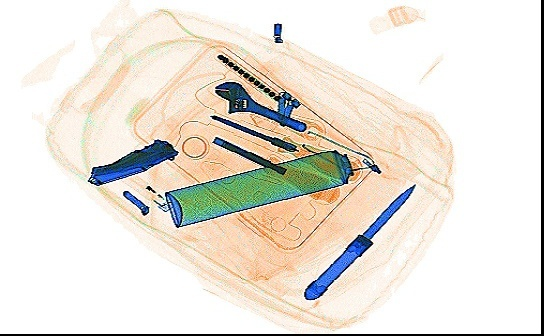knife: (300, 181, 418, 301)
lighter: (120, 167, 175, 210)
pressure: (164, 145, 359, 227)
